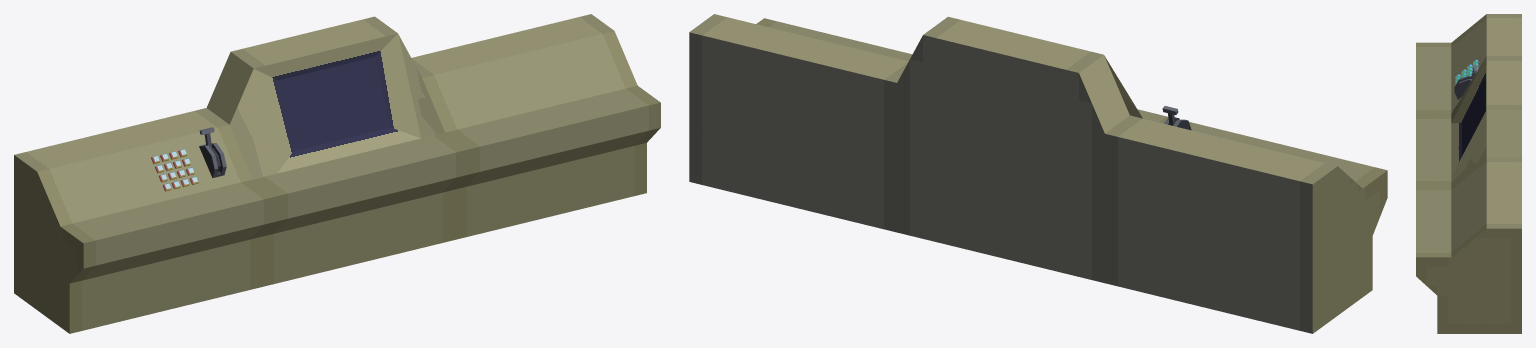
The model's file is Office_Monitor_Table.gltf.
The picture shows the model from 3 angles, left to right: view 1: azimuth 30°, elevation 25°; view 2: azimuth 150°, elevation 25°; view 3: azimuth 270°, elevation 25°; orthographic projection. The views are drawn at different scales.
Visible parts, largest first — view 1: computer, leftPanel, rightPanel, Button, cylinder; view 2: computer, leftPanel, rightPanel; view 3: rightPanel, computer, leftPanel, cylinder, Button.
Part boxes in pixels (bbox=[...]): computer: bbox=[206, 16, 468, 286]; leftPanel: bbox=[14, 108, 275, 333]; rightPanel: bbox=[411, 14, 660, 239]; Button: bbox=[151, 149, 198, 191]; cylinder: bbox=[199, 143, 226, 177]; computer: bbox=[897, 16, 1168, 283]; leftPanel: bbox=[1105, 115, 1387, 333]; rightPanel: bbox=[689, 14, 912, 232]; rightPanel: bbox=[1416, 157, 1521, 333]; computer: bbox=[1416, 56, 1521, 185]; leftPanel: bbox=[1416, 14, 1521, 114]; cylinder: bbox=[1454, 75, 1471, 99]; Button: bbox=[1455, 59, 1478, 84].
Bounding box in the file's own units: 3 × 0.9375 × 0.625.
Materials: 1 (1 with a texture image).
